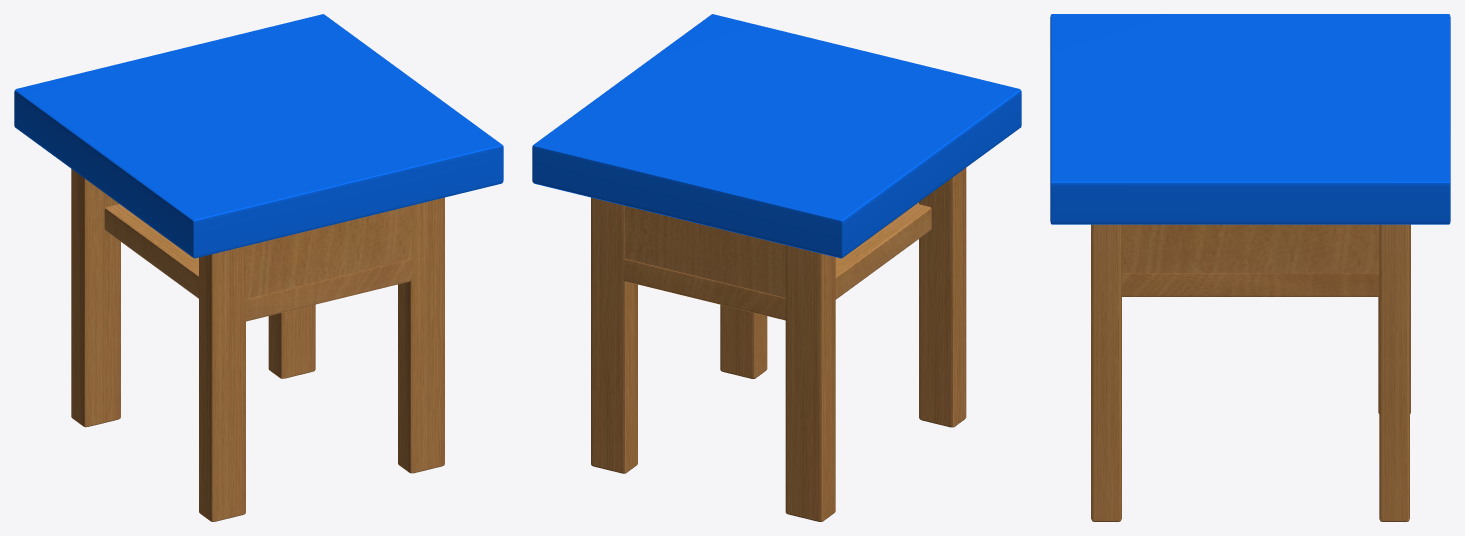
The model's file is zhuozi.fbx.
3 views of the same model, side by side, from view 1: azimuth 30°, elevation 25°; view 2: azimuth 150°, elevation 25°; view 3: azimuth 270°, elevation 25° (orthographic). The views are drawn at different scales.
Parts seen in each view (by area): view 1: tanghul1:pCube13, tanghul1:pCube18, tanghul1:pCube17, tanghul1:pCube15, tanghul1:pCube20, tanghul1:pCube19, tanghul1:pCube16; view 2: tanghul1:pCube13, tanghul1:pCube15, tanghul1:pCube16, tanghul1:pCube18, tanghul1:pCube21, tanghul1:pCube19, tanghul1:pCube17; view 3: tanghul1:pCube13, tanghul1:pCube22, tanghul1:pCube16, tanghul1:pCube17, tanghul1:pCube19.
Boxes of the visible parts, bbox=[...] form: tanghul1:pCube13: bbox=[14, 14, 503, 258]; tanghul1:pCube18: bbox=[199, 246, 245, 521]; tanghul1:pCube17: bbox=[398, 197, 444, 473]; tanghul1:pCube15: bbox=[71, 169, 120, 427]; tanghul1:pCube20: bbox=[245, 205, 411, 299]; tanghul1:pCube19: bbox=[104, 204, 412, 321]; tanghul1:pCube16: bbox=[268, 304, 315, 378]; tanghul1:pCube13: bbox=[532, 14, 1021, 258]; tanghul1:pCube15: bbox=[785, 245, 835, 521]; tanghul1:pCube16: bbox=[591, 197, 637, 473]; tanghul1:pCube18: bbox=[919, 168, 966, 427]; tanghul1:pCube21: bbox=[625, 206, 785, 297]; tanghul1:pCube19: bbox=[623, 202, 931, 320]; tanghul1:pCube17: bbox=[720, 304, 767, 378]; tanghul1:pCube13: bbox=[1050, 14, 1450, 224]; tanghul1:pCube22: bbox=[1122, 224, 1379, 272]; tanghul1:pCube16: bbox=[1379, 224, 1409, 521]; tanghul1:pCube17: bbox=[1091, 224, 1121, 521]; tanghul1:pCube19: bbox=[1122, 273, 1379, 296].
Size of the model in its own units: 2 by 2 by 2.
Materials: 2 (1 with a texture image).
